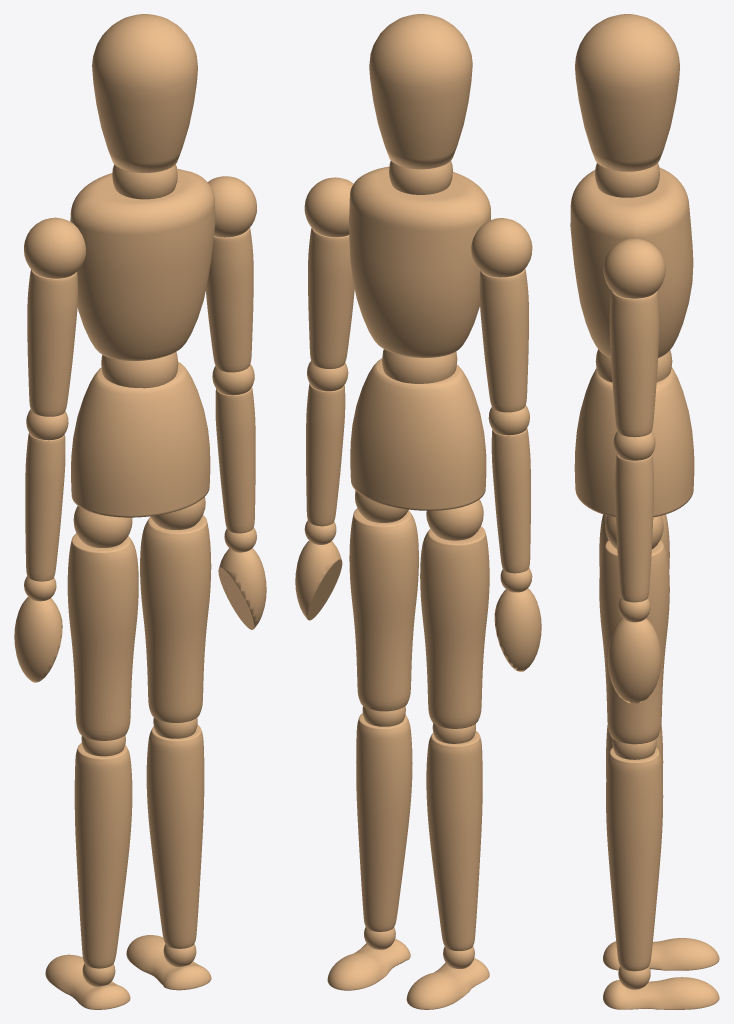
File: manichino.gltf
The picture shows the model from 3 angles, left to right: view 1: azimuth 30°, elevation 25°; view 2: azimuth 150°, elevation 25°; view 3: azimuth 270°, elevation 25°; orthographic projection. The views are drawn at different scales.
Parts seen in each view (by area): view 1: busto, bacino, spalla sx.002, coscia sx, coscia dx, polpaccio sx, polpaccio dx, braccio sx.001, braccio sx, avambraccio sx, avambraccio dx, piede sx/dx (+14 smaller); view 2: busto, bacino, spalla sx.002, coscia dx, coscia sx, polpaccio sx, polpaccio dx, braccio sx.001, braccio sx, piede sx/dx, avambraccio sx, avambraccio dx (+14 smaller); view 3: spalla sx.002, busto, polpaccio dx, bacino, coscia dx, braccio sx, piede sx/dx, avambraccio dx, polso sx.001, spala dx, spalla sx.001, gomito dx.001 (+6 smaller).
Part boxes in pixels (x1,y1,x2,y2): busto: [70, 168, 215, 360]; bacino: [71, 361, 210, 517]; spalla sx.002: [92, 14, 197, 172]; coscia sx: [67, 533, 138, 740]; coscia dx: [140, 515, 211, 722]; polpaccio sx: [74, 743, 132, 968]; polpaccio dx: [146, 725, 204, 948]; braccio sx.001: [27, 269, 77, 416]; braccio sx: [205, 228, 253, 372]; avambraccio sx: [25, 432, 65, 581]; avambraccio dx: [215, 387, 255, 533]; piede sx/dx: [45, 935, 211, 1009]; busto: [349, 166, 490, 357]; bacino: [350, 358, 486, 510]; spalla sx.002: [369, 14, 472, 169]; coscia dx: [349, 508, 418, 711]; coscia sx: [420, 526, 489, 728]; polpaccio sx: [426, 731, 482, 950]; polpaccio dx: [356, 713, 412, 931]; braccio sx.001: [479, 268, 528, 412]; braccio sx: [308, 228, 354, 368]; piede sx/dx: [327, 939, 489, 1009]; avambraccio sx: [491, 428, 530, 573]; avambraccio dx: [306, 383, 345, 526]; spalla sx.002: [575, 14, 679, 171]; busto: [570, 167, 693, 357]; polpaccio dx: [606, 747, 663, 971]; bacino: [574, 367, 694, 517]; coscia dx: [599, 540, 669, 744]; braccio sx: [609, 291, 659, 437]; piede sx/dx: [603, 938, 719, 1009]; avambraccio dx: [615, 454, 653, 602]; polso sx.001: [607, 618, 661, 703]; spala dx: [603, 238, 665, 298]; spalla sx.001: [595, 163, 659, 197]; gomito dx.001: [613, 431, 655, 460].
Size of the model in its own units: 0.7885 by 2.99 by 0.4202.
